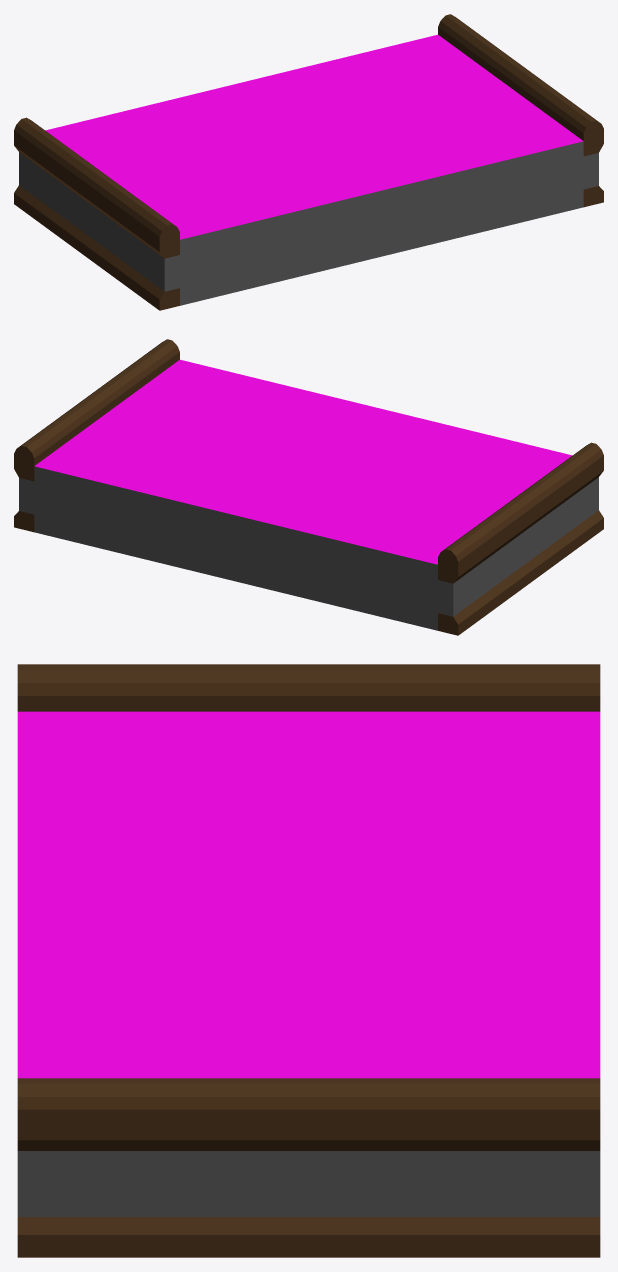
The model's file is ConveyorMid.fbx.
The picture shows the model from 3 angles, top to bottom: view 1: azimuth 30°, elevation 25°; view 2: azimuth 150°, elevation 25°; view 3: azimuth 270°, elevation 25°; orthographic projection. The views are drawn at different scales.
Visible parts, largest first — view 1: Cube; view 2: Cube; view 3: Cube.
Part boxes in pixels (<box>): Cube: <box>14,14,603,310</box>; Cube: <box>14,339,603,635</box>; Cube: <box>17,664,600,1257</box>.
Bounding box in the file's own units: 176 × 31.57 × 100.
